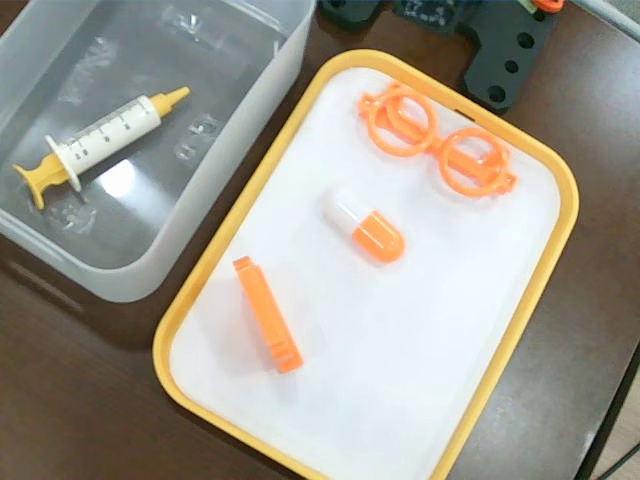pill: (322, 188, 408, 265)
syringe: (13, 86, 191, 212)
